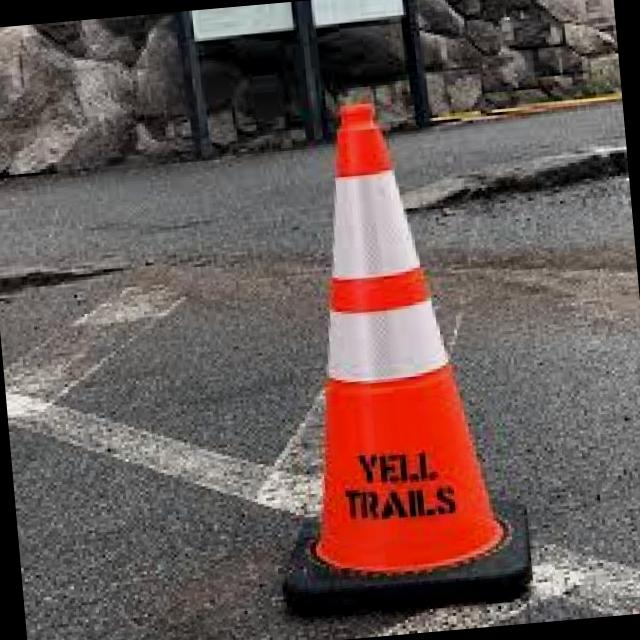Cone: (255, 76, 541, 616)
